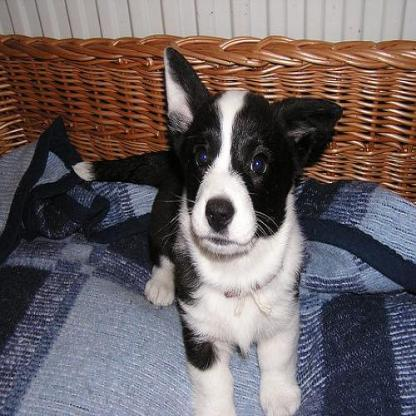Cardigan: (142, 44, 340, 410)
